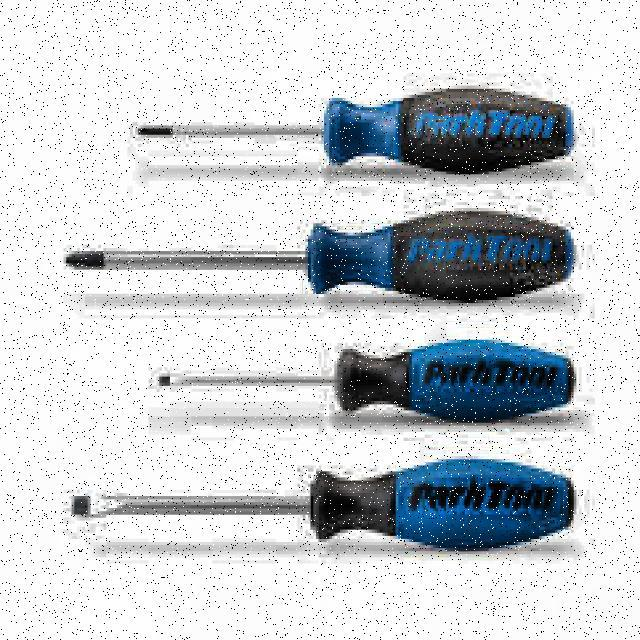screwdriver: (66, 208, 574, 302), (73, 460, 575, 550), (138, 89, 574, 172), (160, 336, 574, 421)
